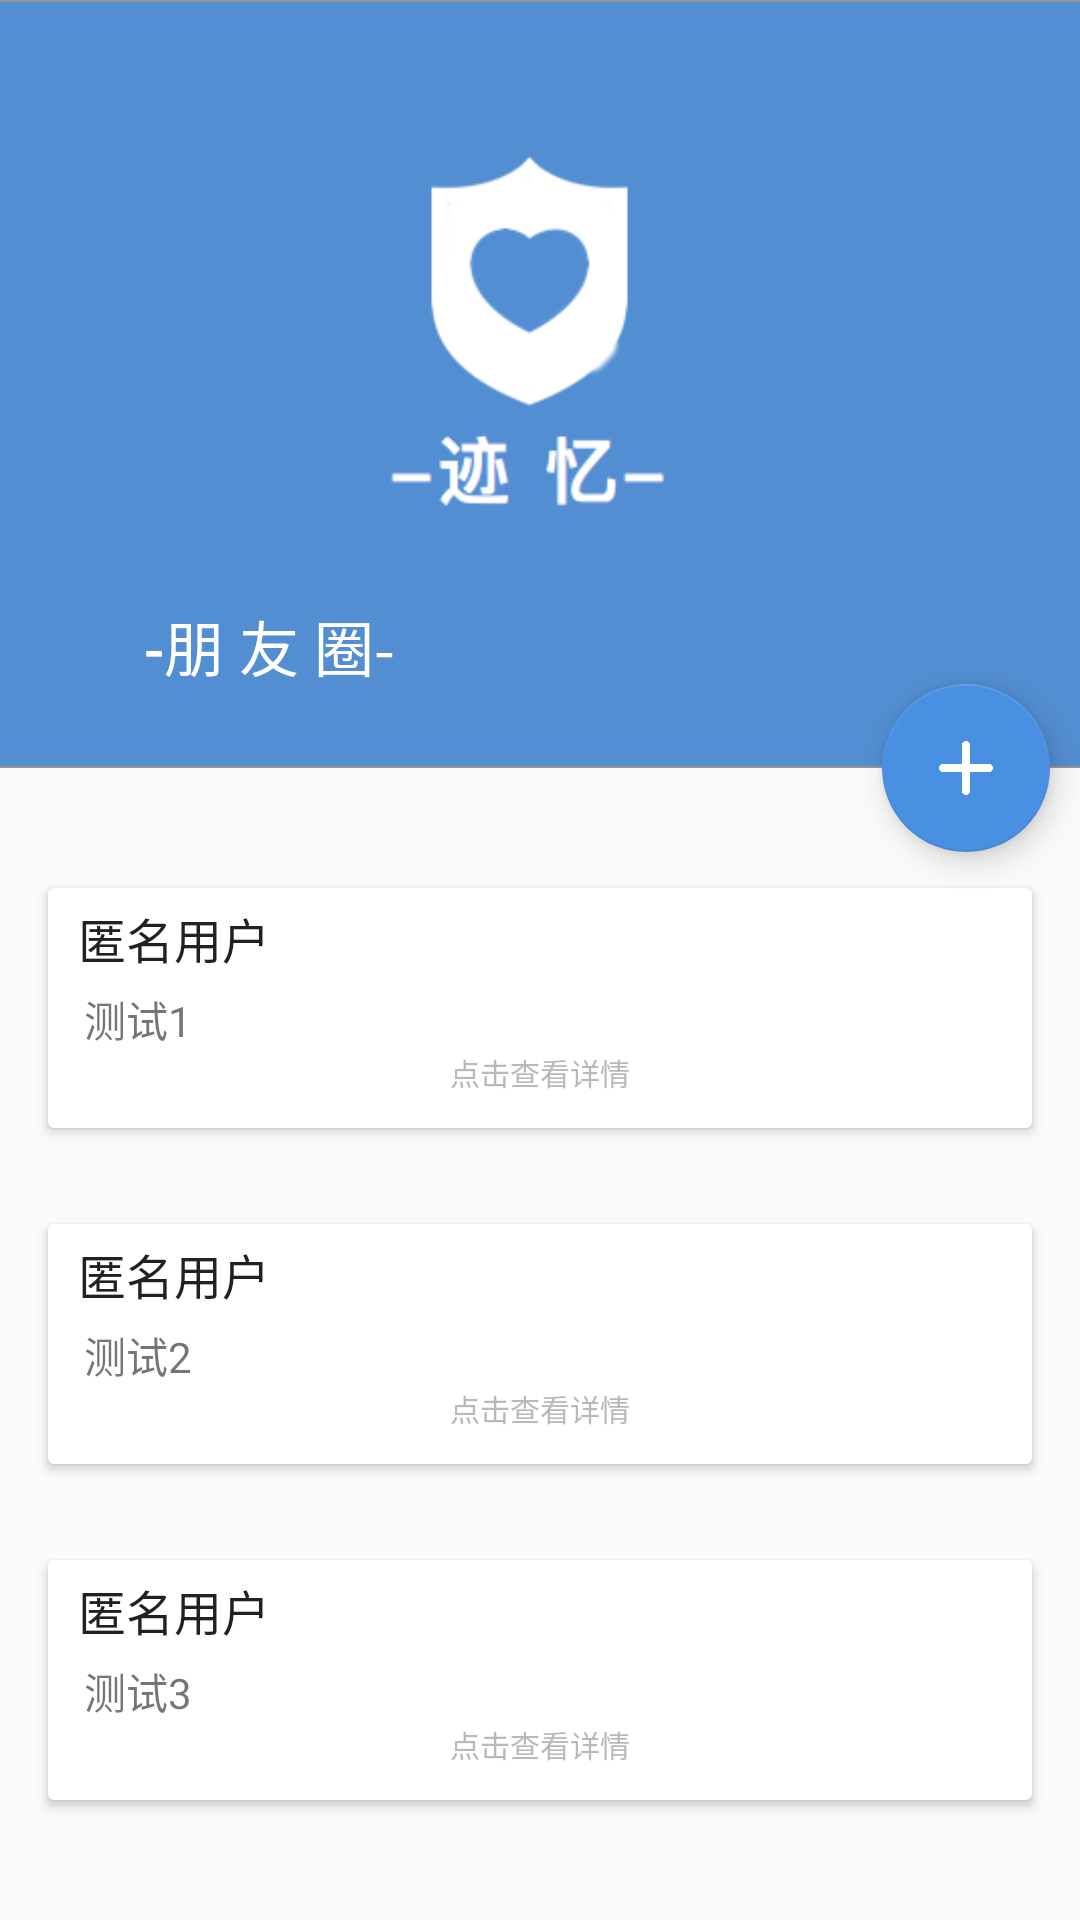

Named icons in this screenshot (1080*1920) and their centers, point (x, y):
add: point (966, 768)
